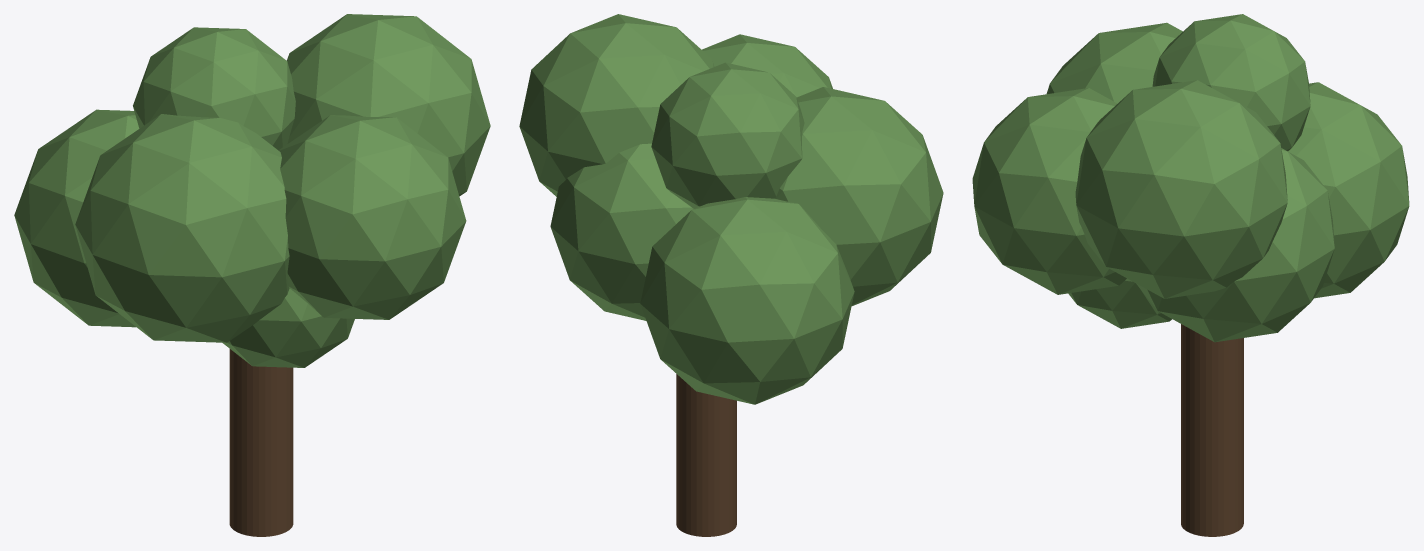
Rendered from oaktree.glb.
3 views of the same model, side by side, from view 1: azimuth 30°, elevation 25°; view 2: azimuth 150°, elevation 25°; view 3: azimuth 270°, elevation 25° (orthographic). The views are drawn at different scales.
Parts seen in each view (by area): view 1: Icosphere.016, Icosphere.015, Icosphere.019, Icosphere.017, Icosphere.018, Cylinder.020, Icosphere.021; view 2: Icosphere.018, Icosphere.016, Icosphere.019, Icosphere.017, Icosphere.020, Cylinder.020, Icosphere.015; view 3: Icosphere.019, Icosphere.015, Icosphere.018, Icosphere.020, Cylinder.020, Icosphere.017, Icosphere.016, Icosphere.021.
Part boxes in pixels (x1,y1,x2,y2): Icosphere.016: (75, 114, 289, 342); Icosphere.015: (278, 115, 466, 319); Icosphere.019: (286, 14, 490, 196); Icosphere.017: (133, 27, 295, 150); Icosphere.018: (14, 109, 139, 327); Cylinder.020: (229, 349, 293, 536); Icosphere.021: (222, 288, 354, 367); Icosphere.018: (640, 197, 854, 404); Icosphere.016: (775, 87, 943, 305); Icosphere.019: (519, 14, 714, 196); Icosphere.017: (651, 62, 804, 208); Icosphere.020: (550, 143, 693, 320); Cylinder.020: (676, 374, 736, 536); Icosphere.015: (702, 34, 832, 97); Icosphere.019: (1075, 80, 1287, 298); Icosphere.015: (972, 88, 1126, 294); Icosphere.018: (1288, 82, 1409, 298); Icosphere.020: (1136, 148, 1334, 342); Cylinder.020: (1181, 324, 1243, 536); Icosphere.017: (1152, 14, 1310, 151); Icosphere.016: (1046, 22, 1182, 103); Icosphere.021: (1068, 278, 1171, 328).
Bounding box in the file's own units: 1.18 × 1.38 × 1.13.
